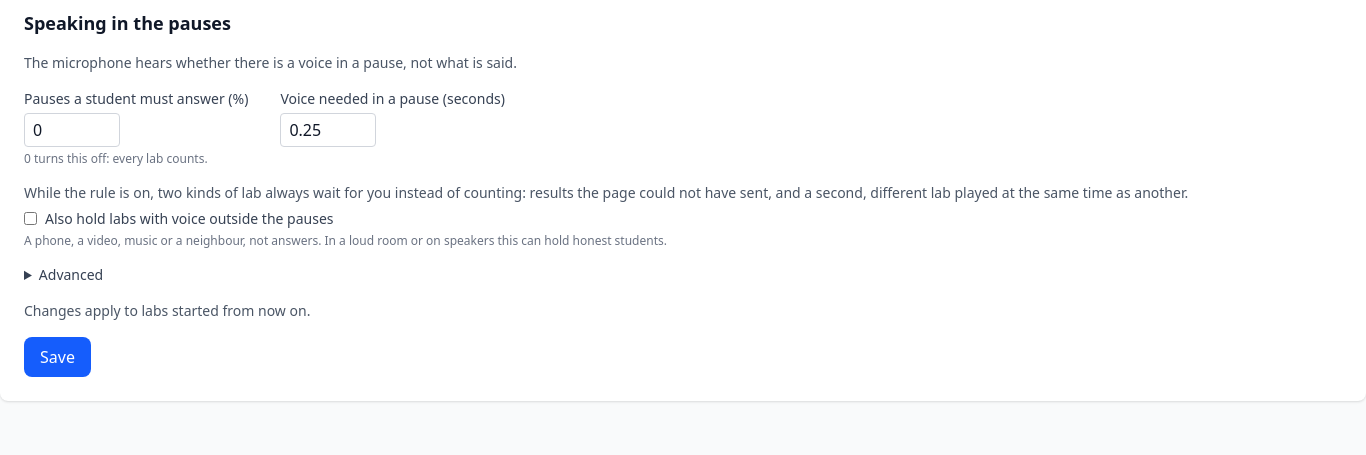
LabSettings › shows the server’s refusal
Click the button "Save". click: click(57, 356)
box: x1=24 y1=336 x2=91 y2=376
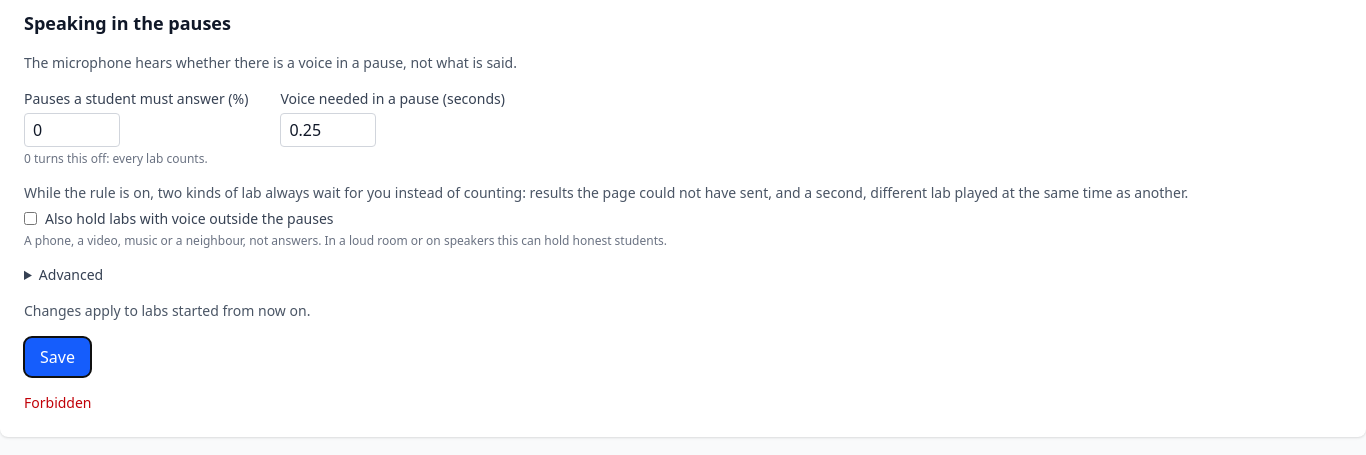
Now the message reads "Forbidden", box x1=24 y1=392 x2=92 y2=412
